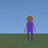person: (24, 16, 36, 41)
